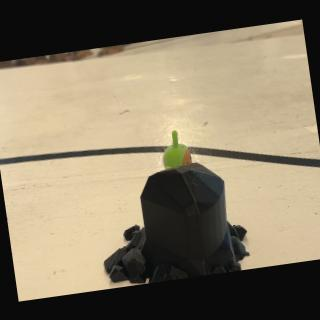teletubby: (162, 130, 192, 169)
